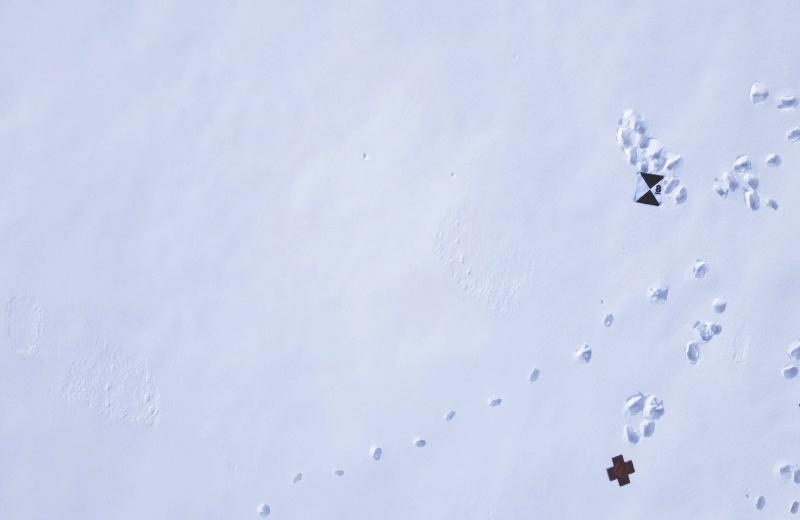Cross: (598, 437, 641, 494)
